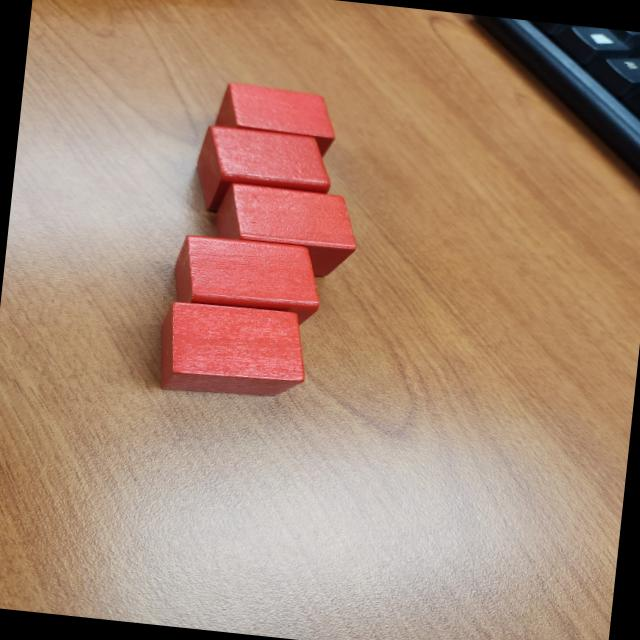red: (154, 298, 309, 404), (208, 180, 362, 282), (168, 232, 326, 331), (190, 123, 336, 224), (208, 80, 342, 160)
